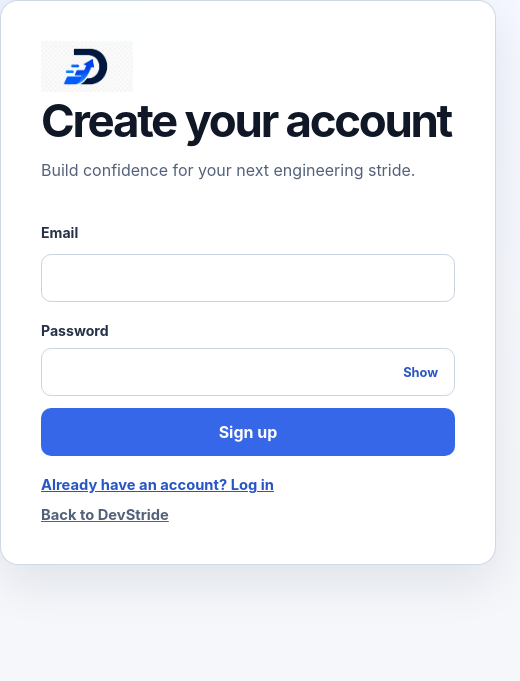
AuthForm › handles email confirmation after sign-up
Step 1. Type "new@example.com" into the field labelled "Email" → (248, 278), box top-left (41, 254), bottom-right (455, 302)
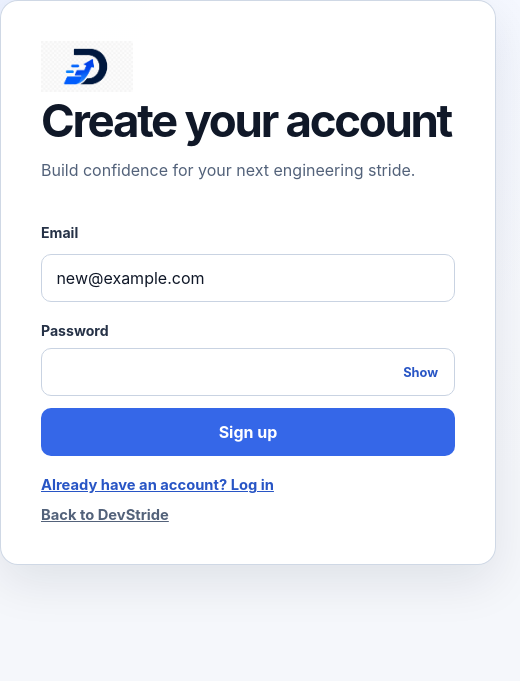
Step 2. Type "password123" into the password field labelled "Password" → (248, 372), box top-left (41, 348), bottom-right (455, 396)
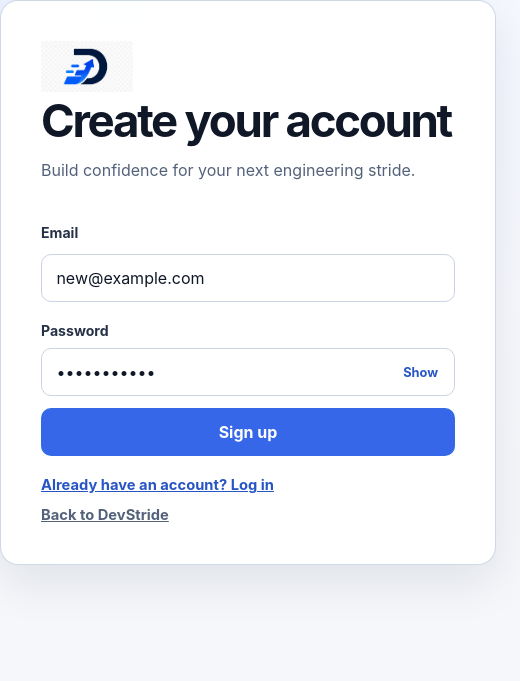
Step 3. Click the button "Sign up" → click(248, 432), box top-left (41, 408), bottom-right (455, 456)
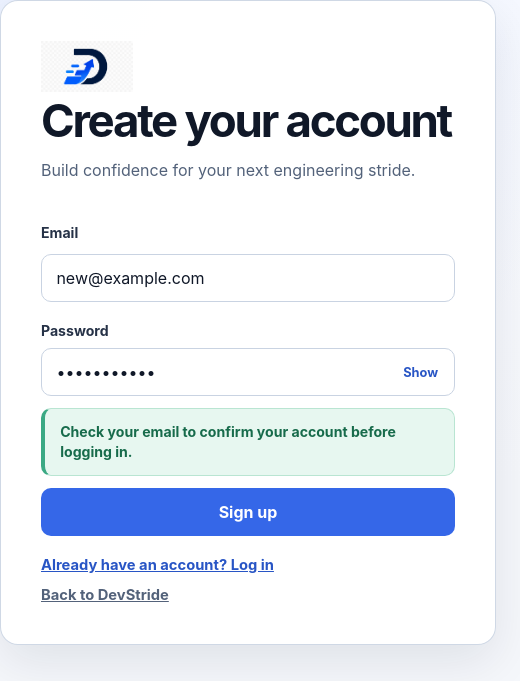
Result: the message shows "Check your email" at top-left (60, 423), bottom-right (396, 460)
